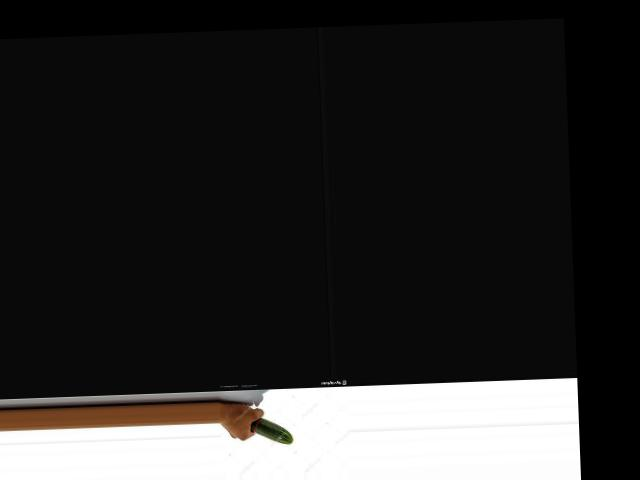cucumber: (249, 416, 292, 445)
